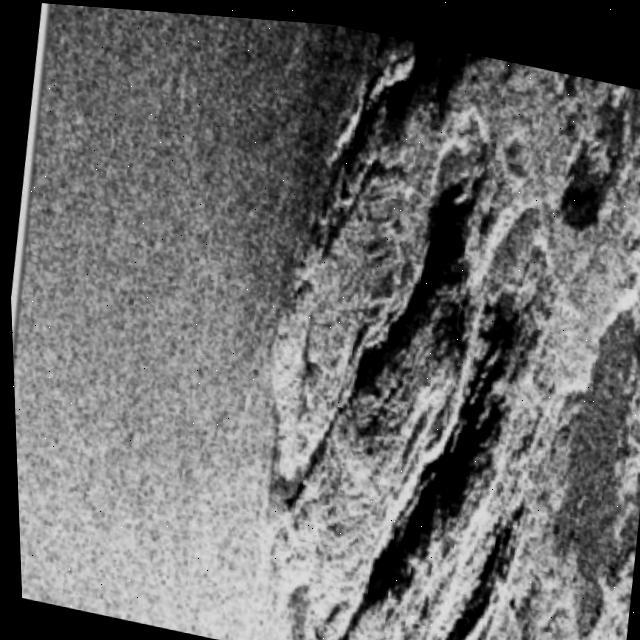bedrock group: (214, 12, 640, 640)
